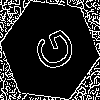G: (25, 25, 78, 79)
